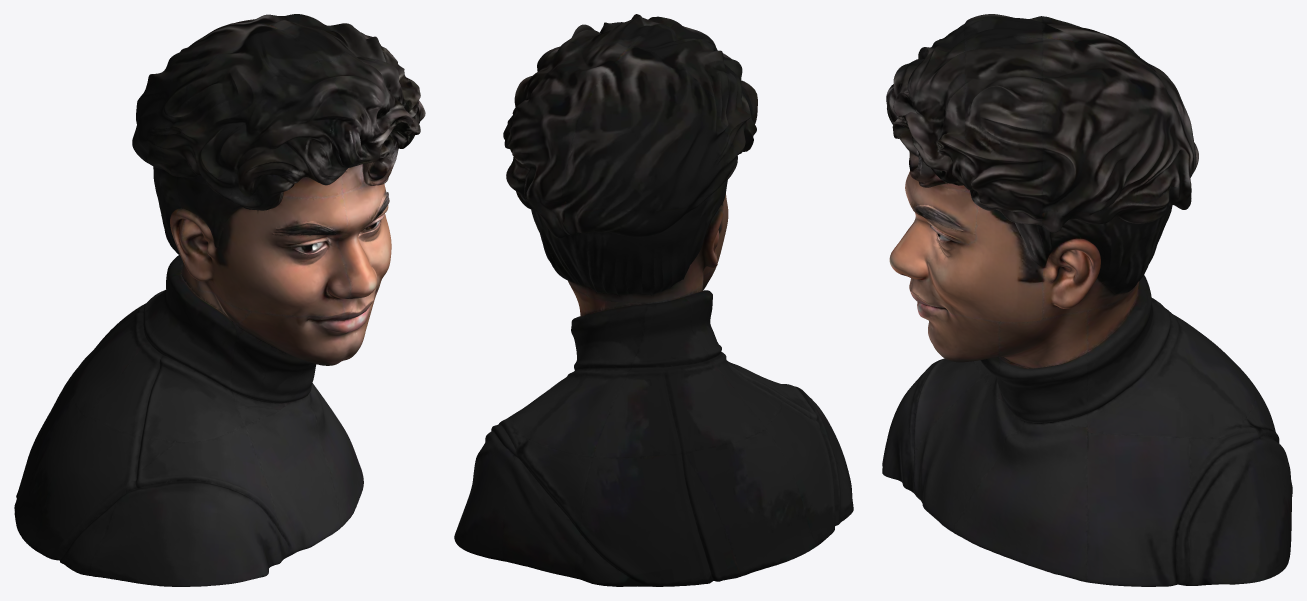
Rendered from mizan3d-optimized.glb.
The picture shows the model from 3 angles, left to right: view 1: azimuth 30°, elevation 25°; view 2: azimuth 150°, elevation 25°; view 3: azimuth 270°, elevation 25°; orthographic projection. The views are drawn at different scales.
Visible parts, largest first — view 1: tmpf4fxo60wobj; view 2: tmpf4fxo60wobj; view 3: tmpf4fxo60wobj.
Part boxes in pixels (bbox=[...]): tmpf4fxo60wobj: bbox=[14, 14, 425, 586]; tmpf4fxo60wobj: bbox=[454, 14, 853, 586]; tmpf4fxo60wobj: bbox=[882, 14, 1292, 586].
Bounding box in the file's own units: 0.7541 × 1 × 0.74.
1 material, 1 textured.
